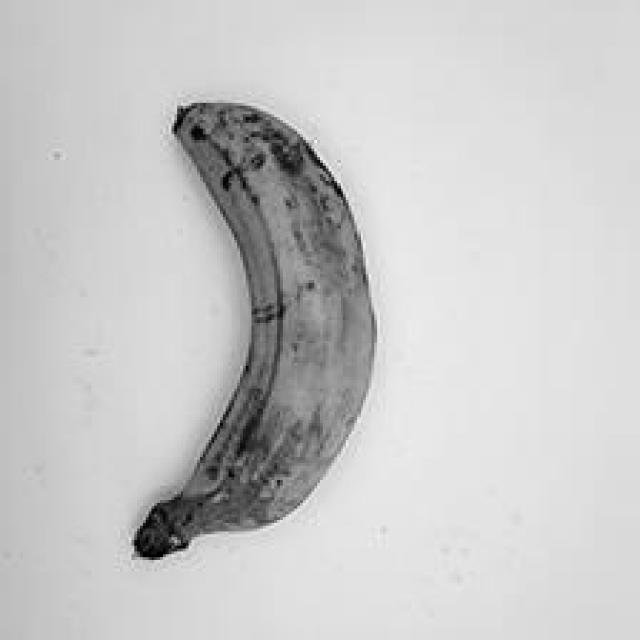Overripe: (91, 78, 420, 572)
